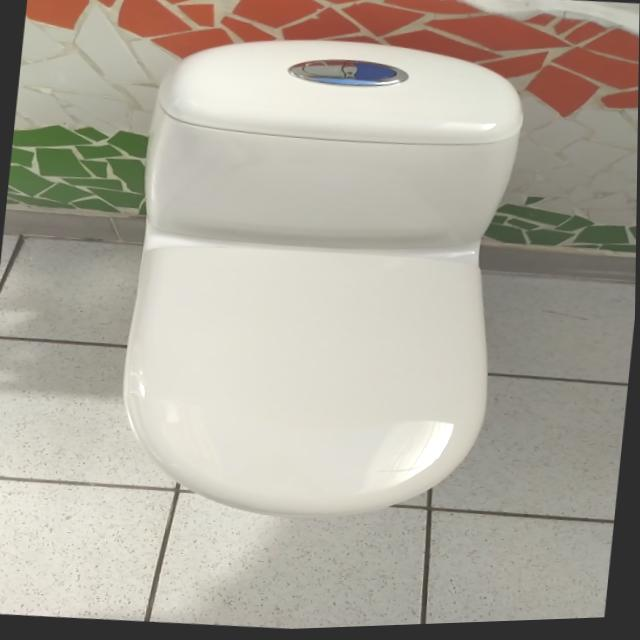toilet: (103, 15, 544, 550)
